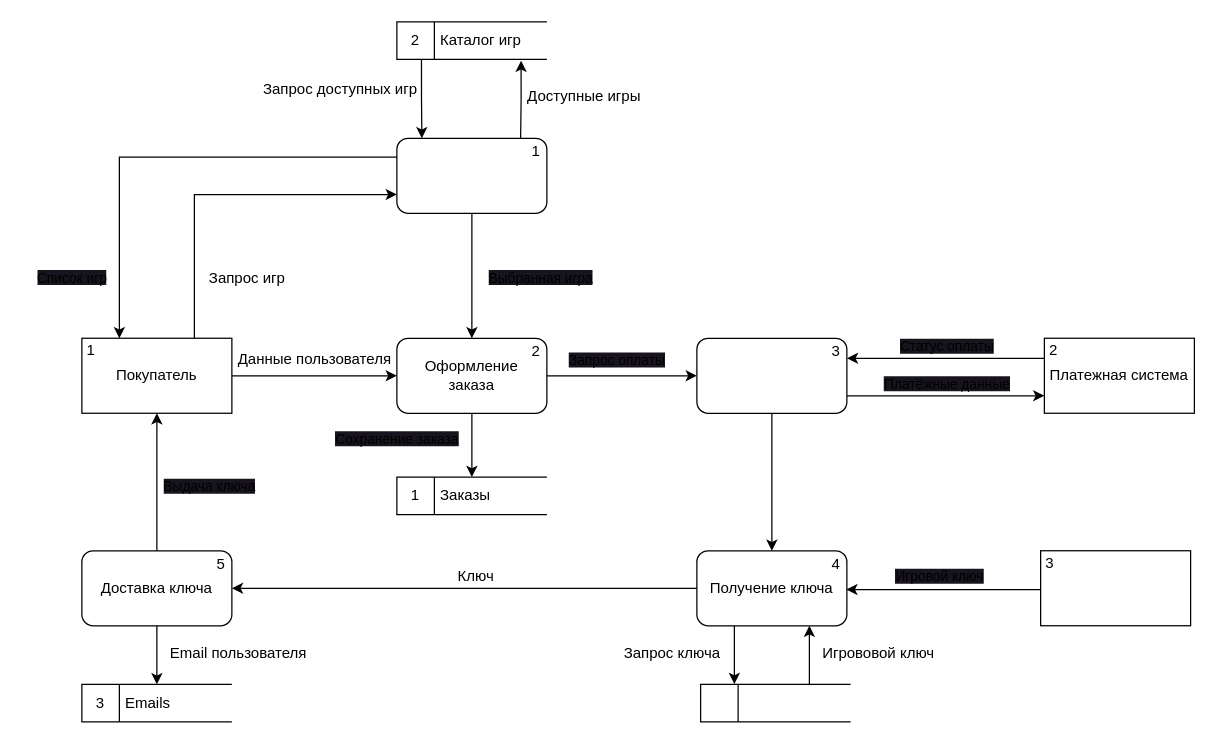
This 1216x744 diagram has some shape labels left out. The box of each missing label's shape, as (x1, y1, x2, y2) in pixels:
4 Инвентарь: (699, 683, 851, 722)
Обработка оплаты: (696, 337, 847, 413)
Поиск и выбор ключа: (396, 137, 547, 213)
Поставщик: (1039, 550, 1191, 626)
